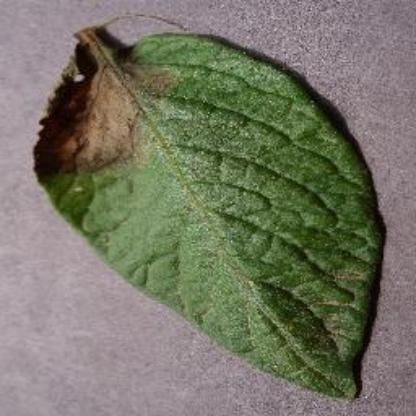Late-Blight: (28, 8, 384, 400)
